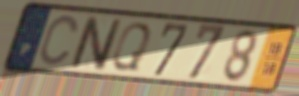7: (188, 22, 228, 84), (152, 21, 190, 78)
8: (222, 28, 260, 85)
C: (37, 13, 81, 68)
N: (68, 14, 124, 73)
Q: (108, 21, 154, 73)
